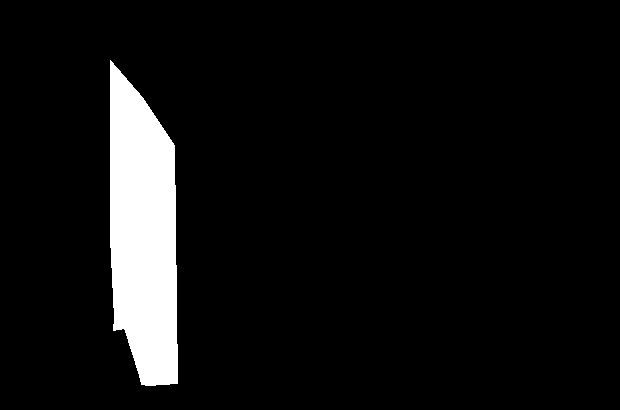type3s: (106, 54, 180, 391)
